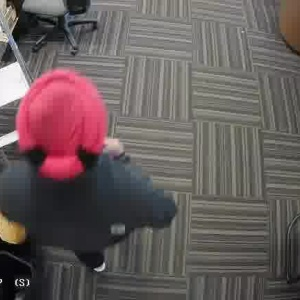person: (5, 79, 145, 259)
